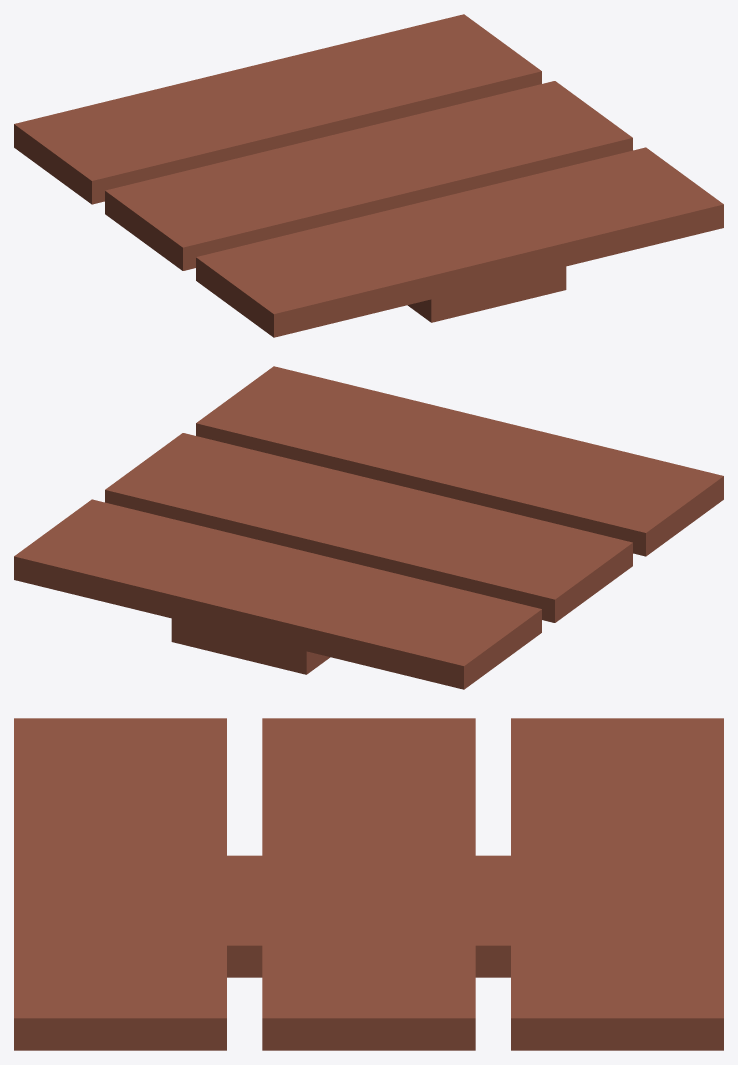
File: scaffold_small_low 1.fbx
3 renders of one model, top to bottom at view 1: azimuth 30°, elevation 25°; view 2: azimuth 150°, elevation 25°; view 3: azimuth 270°, elevation 25°, orthographic. The views are drawn at different scales.
Visible parts, largest first — view 1: scaffold_small_low; view 2: scaffold_small_low; view 3: scaffold_small_low.
Boxes of the visible parts, bbox=[...] form: scaffold_small_low: bbox=[14, 14, 723, 337]; scaffold_small_low: bbox=[14, 366, 723, 689]; scaffold_small_low: bbox=[14, 718, 723, 1050].
Bounding box in the file's own units: 200 × 20 × 200.
